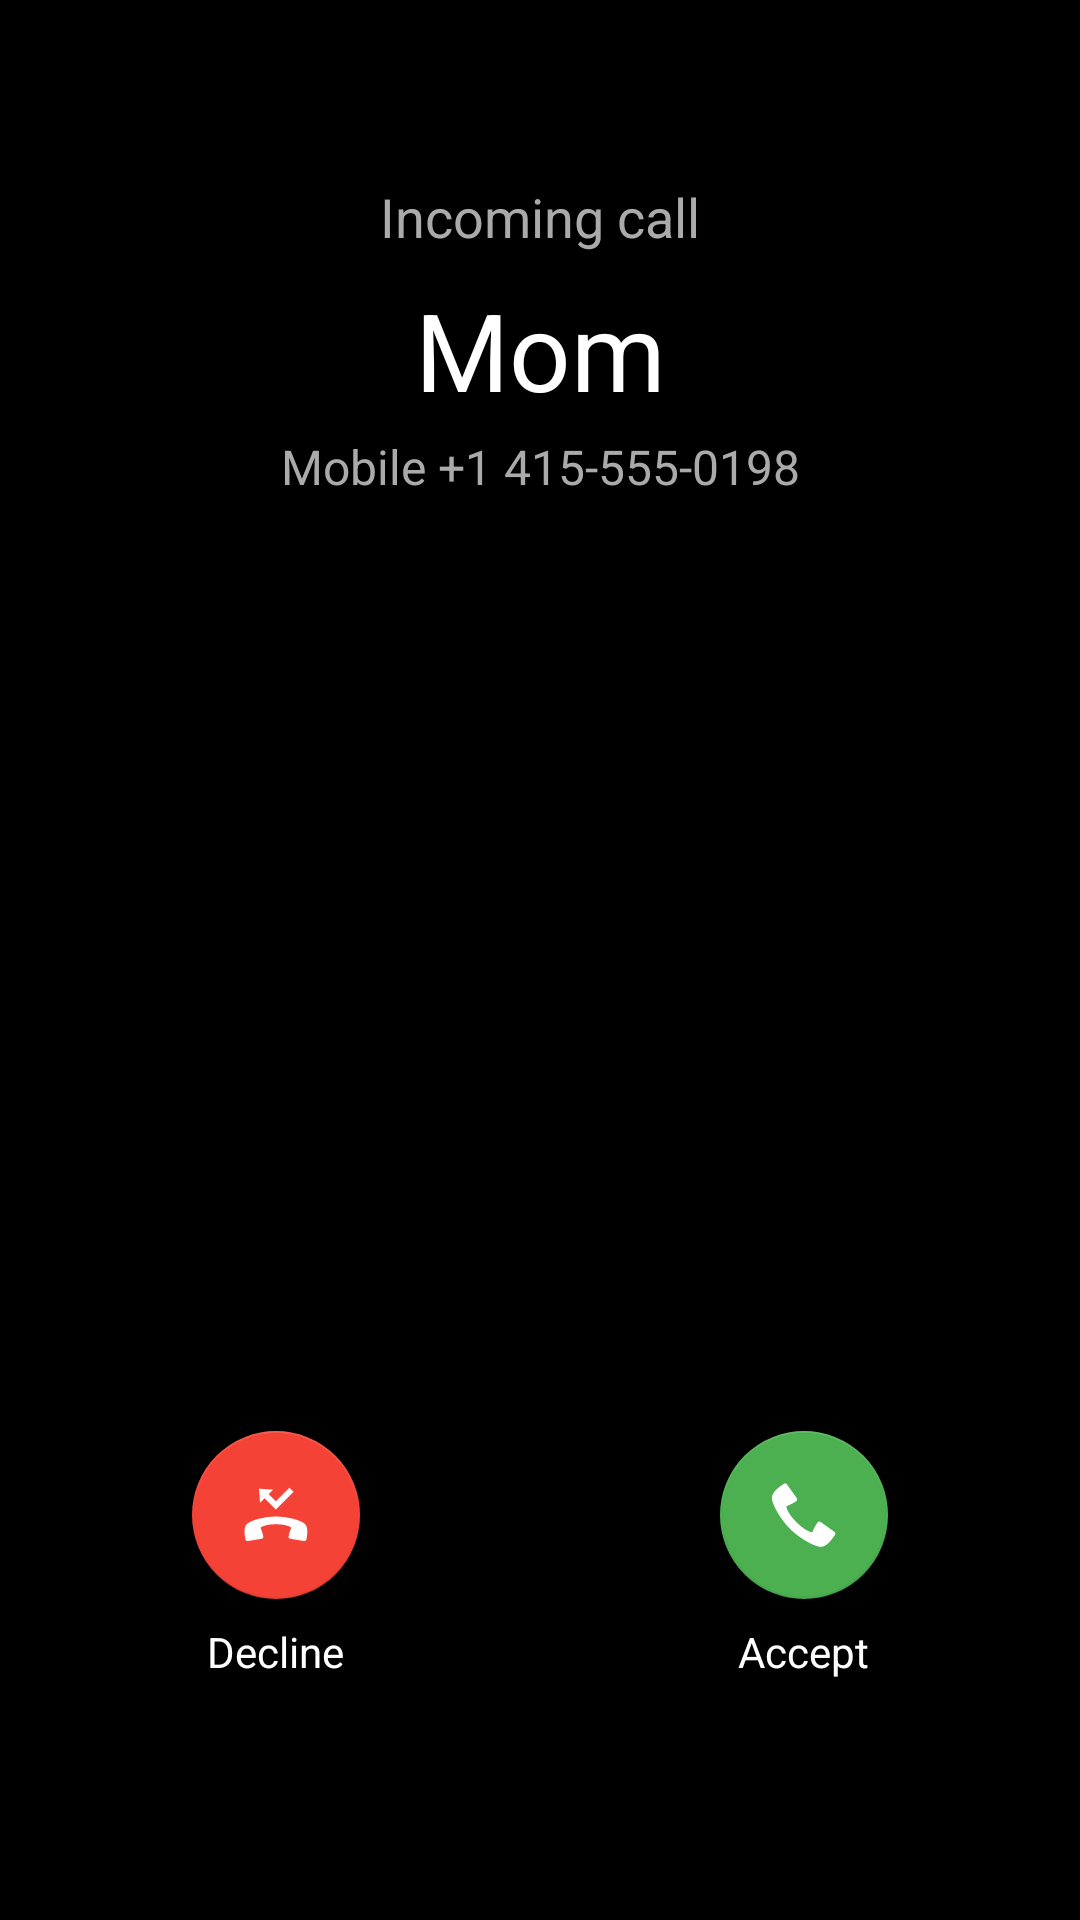

Named icons in this screenshot (1080w x 1920h) and their centers, (x=x, y=y):
missed call: (x=276, y=1515)
phone call: (x=804, y=1515)
